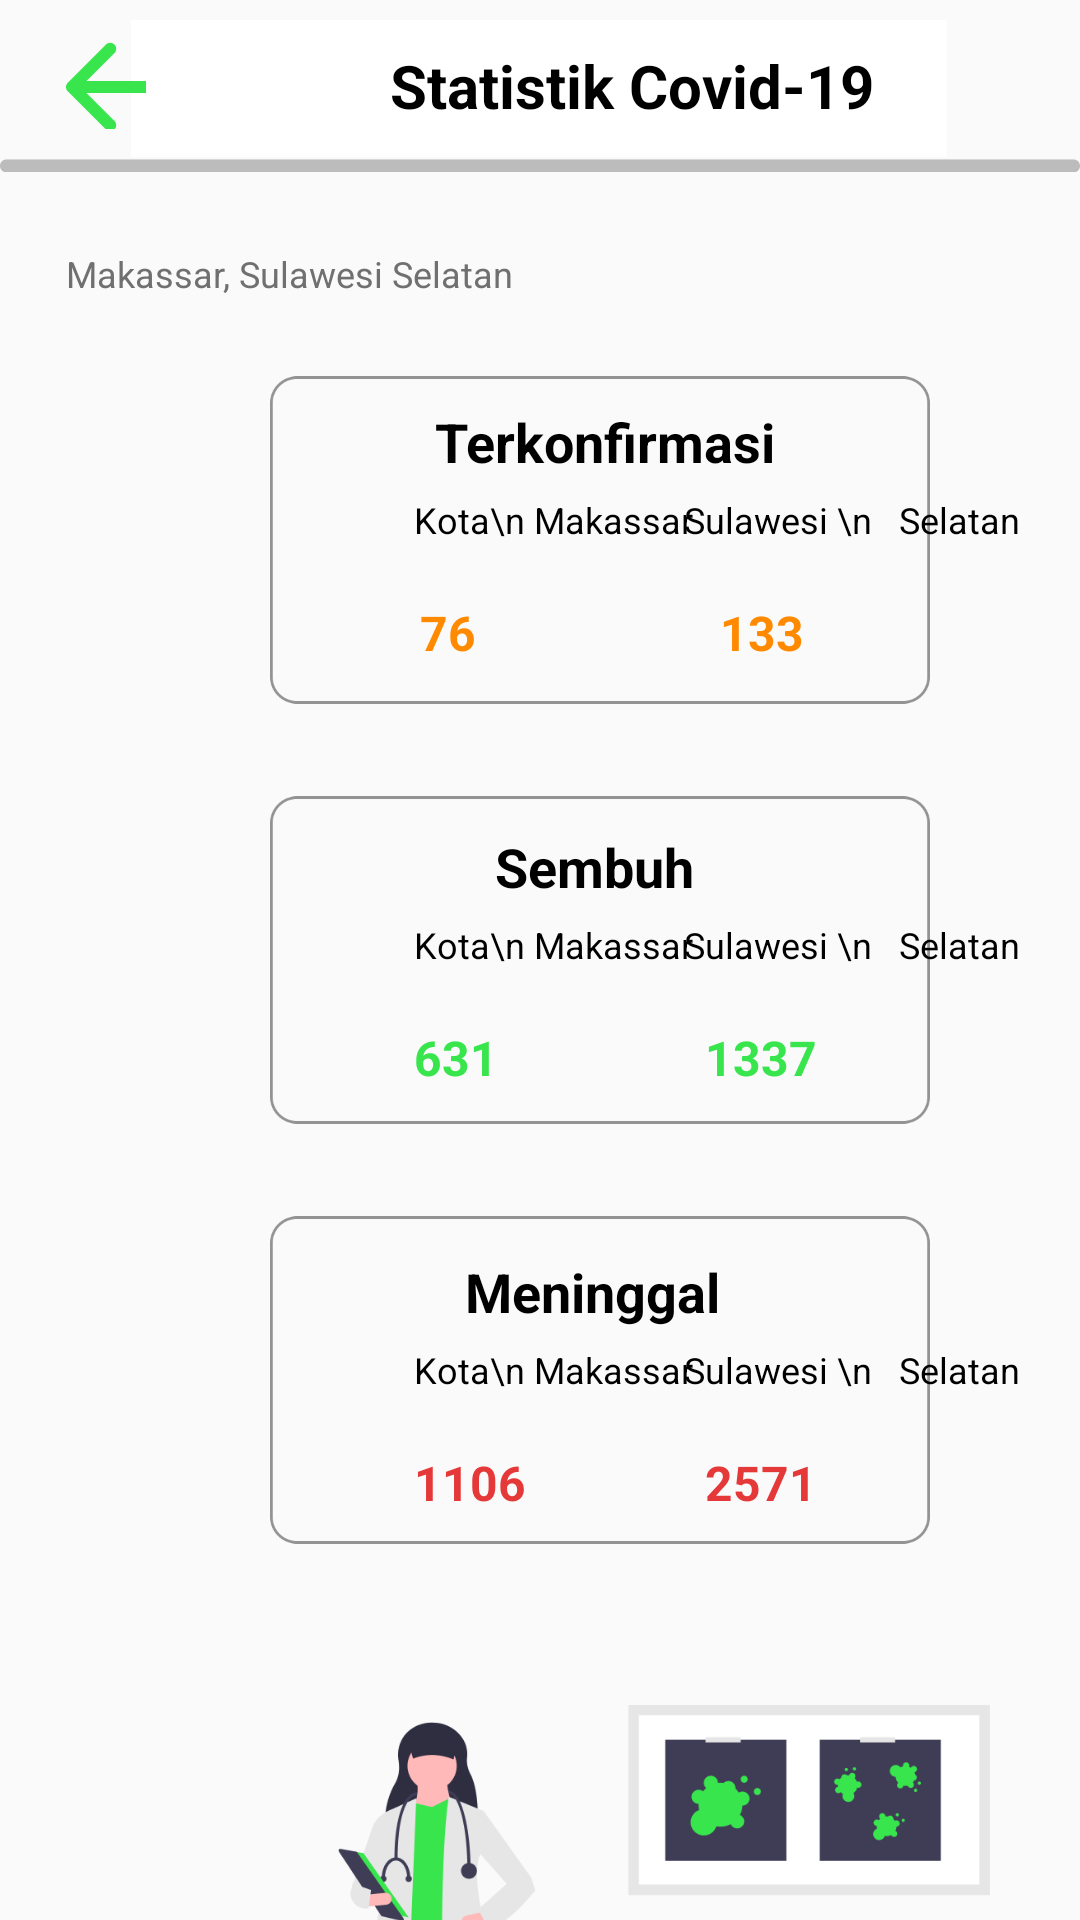

Named icons in this screenshot (1080x1920) and their bounding boxes, [x1, y1, x2, y2]:
back: [66, 42, 146, 129]
